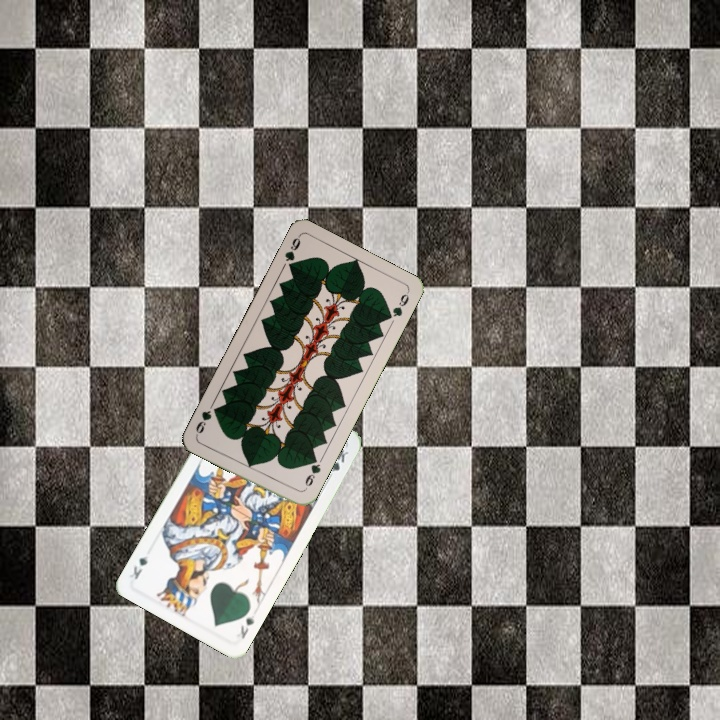G9: (300, 453, 323, 493), (281, 232, 303, 273)
GK: (236, 611, 258, 642)
